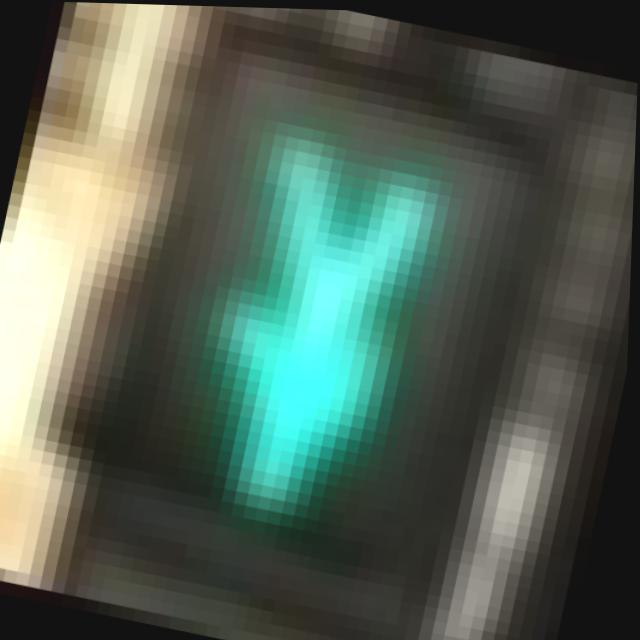green_light: (98, 50, 568, 576)
